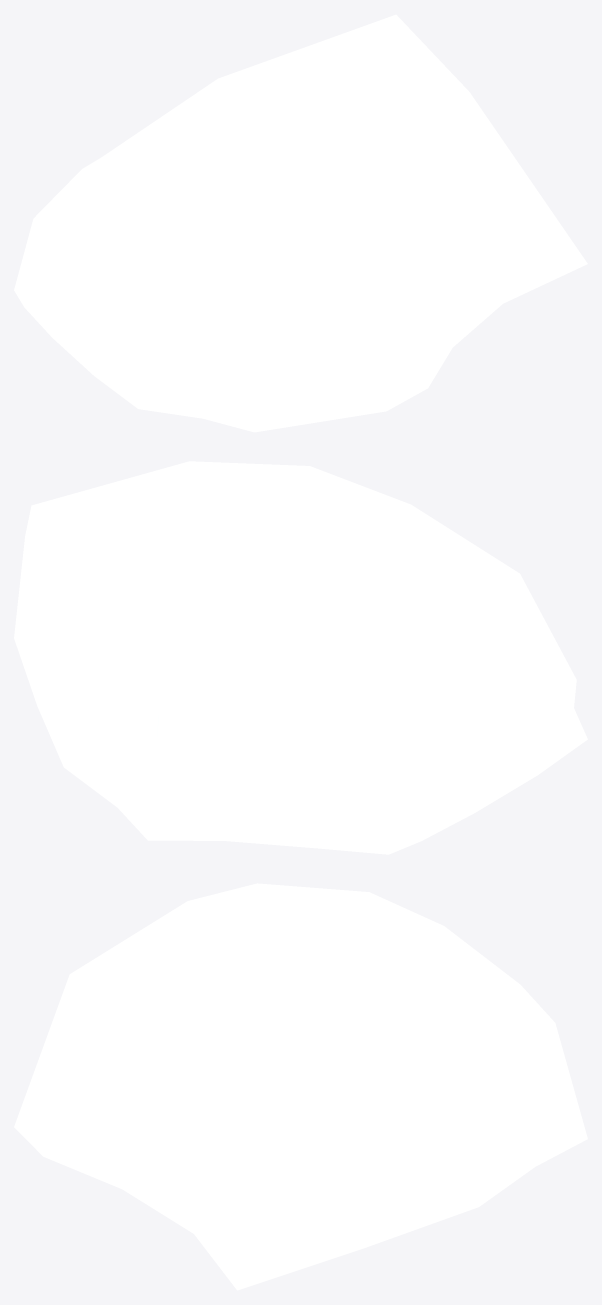
Rendered from LowPolyRock_7.FBX.
3 views of the same model, one above another, from view 1: azimuth 30°, elevation 25°; view 2: azimuth 150°, elevation 25°; view 3: azimuth 270°, elevation 25° (orthographic). The views are drawn at different scales.
Parts seen in each view (by area): view 1: Rock_3; view 2: Rock_3; view 3: Rock_3.
Part boxes in pixels (x1=…): Rock_3: x1=14, y1=14, x2=587, y2=432; Rock_3: x1=14, y1=461, x2=587, y2=854; Rock_3: x1=14, y1=883, x2=587, y2=1290.
Size of the model in its own units: 7.8 by 3.55 by 7.2.
Materials: 1 (1 with a texture image).
